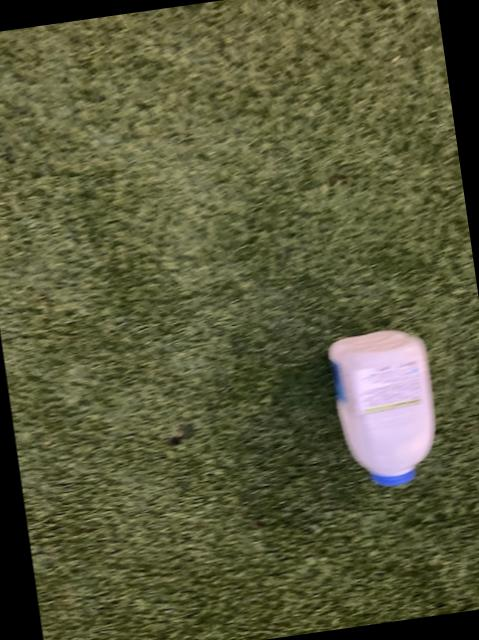plastic: (329, 331, 435, 486)
